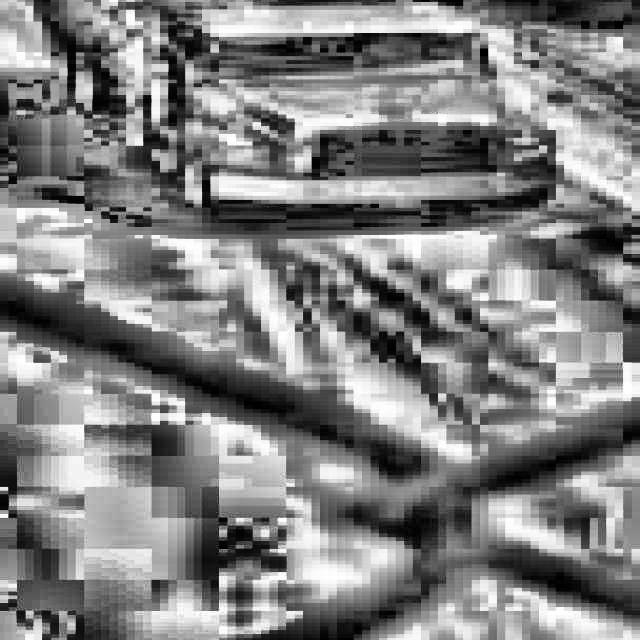dump_truck: (0, 0, 582, 228)
